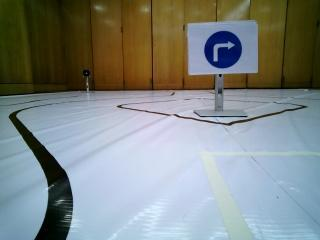right: (188, 25, 256, 76)
